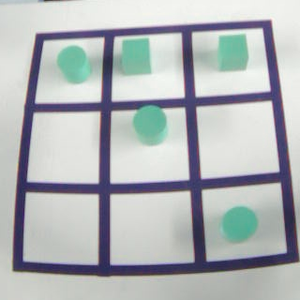cube: (117, 34, 158, 79), (214, 31, 254, 75)
cylinder: (214, 199, 265, 250), (128, 102, 174, 148), (52, 42, 94, 86)
empty: (104, 186, 200, 272), (190, 99, 285, 184), (17, 186, 106, 271), (25, 108, 106, 189)
